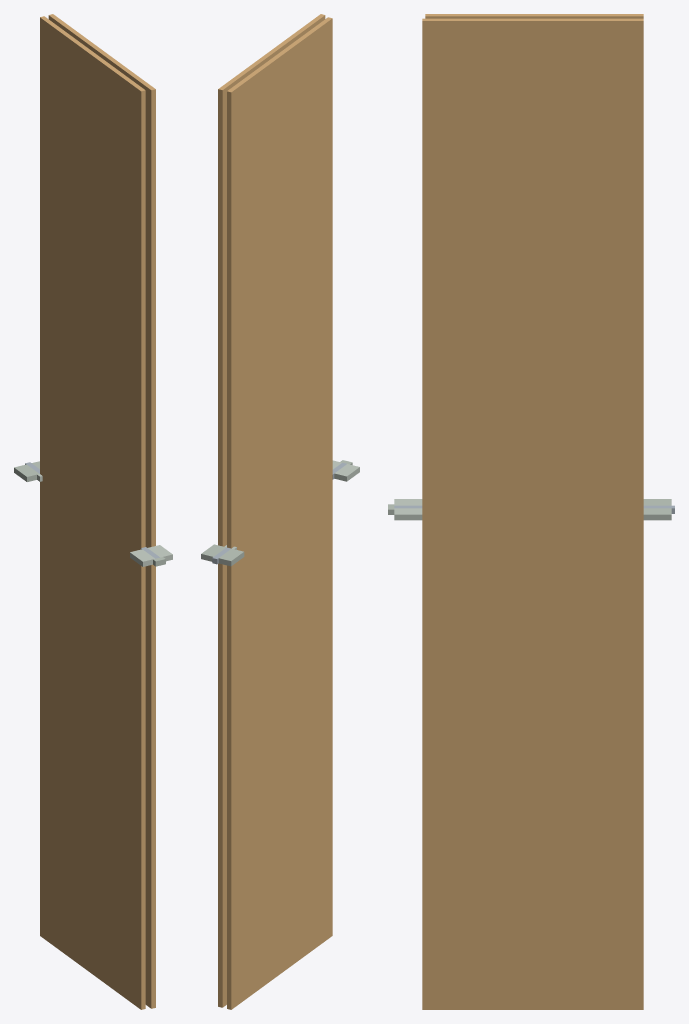
File: board.glb
The picture shows the model from 3 angles, left to right: view 1: azimuth 30°, elevation 25°; view 2: azimuth 150°, elevation 25°; view 3: azimuth 270°, elevation 25°; orthographic projection. The views are drawn at different scales.
Parts seen in each view (by area): view 1: Unified_Net_1_Contour_0, Unified_Net_2_Contour_0; view 2: Unified_Net_1_Contour_0, Unified_Net_2_Contour_0; view 3: Unified_Net_2_Contour_0, Unified_Net_1_Contour_0.
Boxes of the visible parts, bbox=[...] form: Unified_Net_1_Contour_0: bbox=[40, 16, 145, 1009]; Unified_Net_2_Contour_0: bbox=[48, 14, 155, 1008]; Unified_Net_1_Contour_0: bbox=[227, 17, 332, 1009]; Unified_Net_2_Contour_0: bbox=[218, 14, 325, 1007]; Unified_Net_2_Contour_0: bbox=[422, 18, 643, 1009]; Unified_Net_1_Contour_0: bbox=[425, 14, 643, 18].
Bounding box in the file's own units: 1.2e-06 × 3.5e-05 × 9.2e-06.
